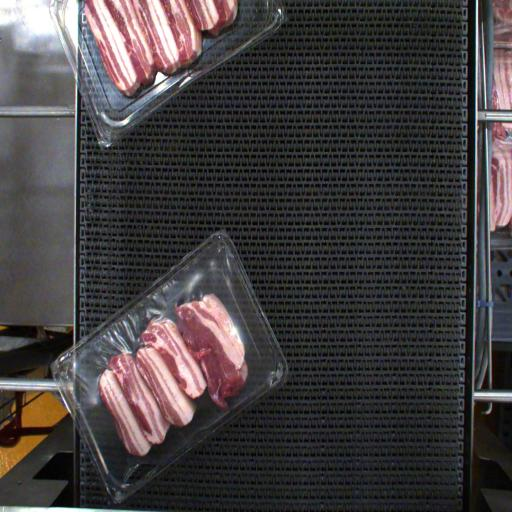unsealed: (42, 256, 277, 413)
